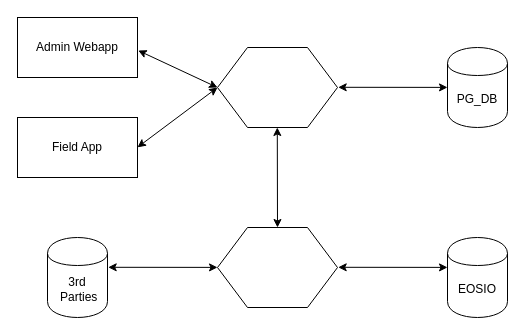
Some shapes in this 525 by 335 pixel diagram are drawn without their labels. The centre of each missing label's shape, as x and y in pixels:
Hasura GraphQL: (277,87)
NODE JS BACKEND / API: (277,267)
